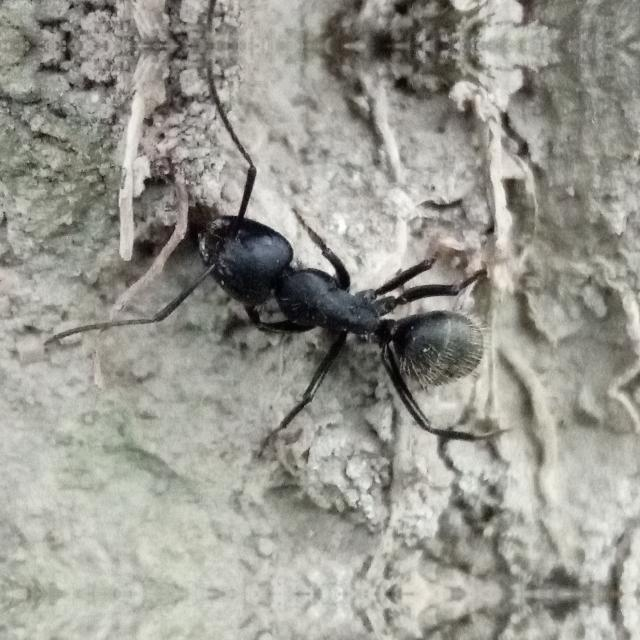Camponotus: (149, 160, 516, 432)
